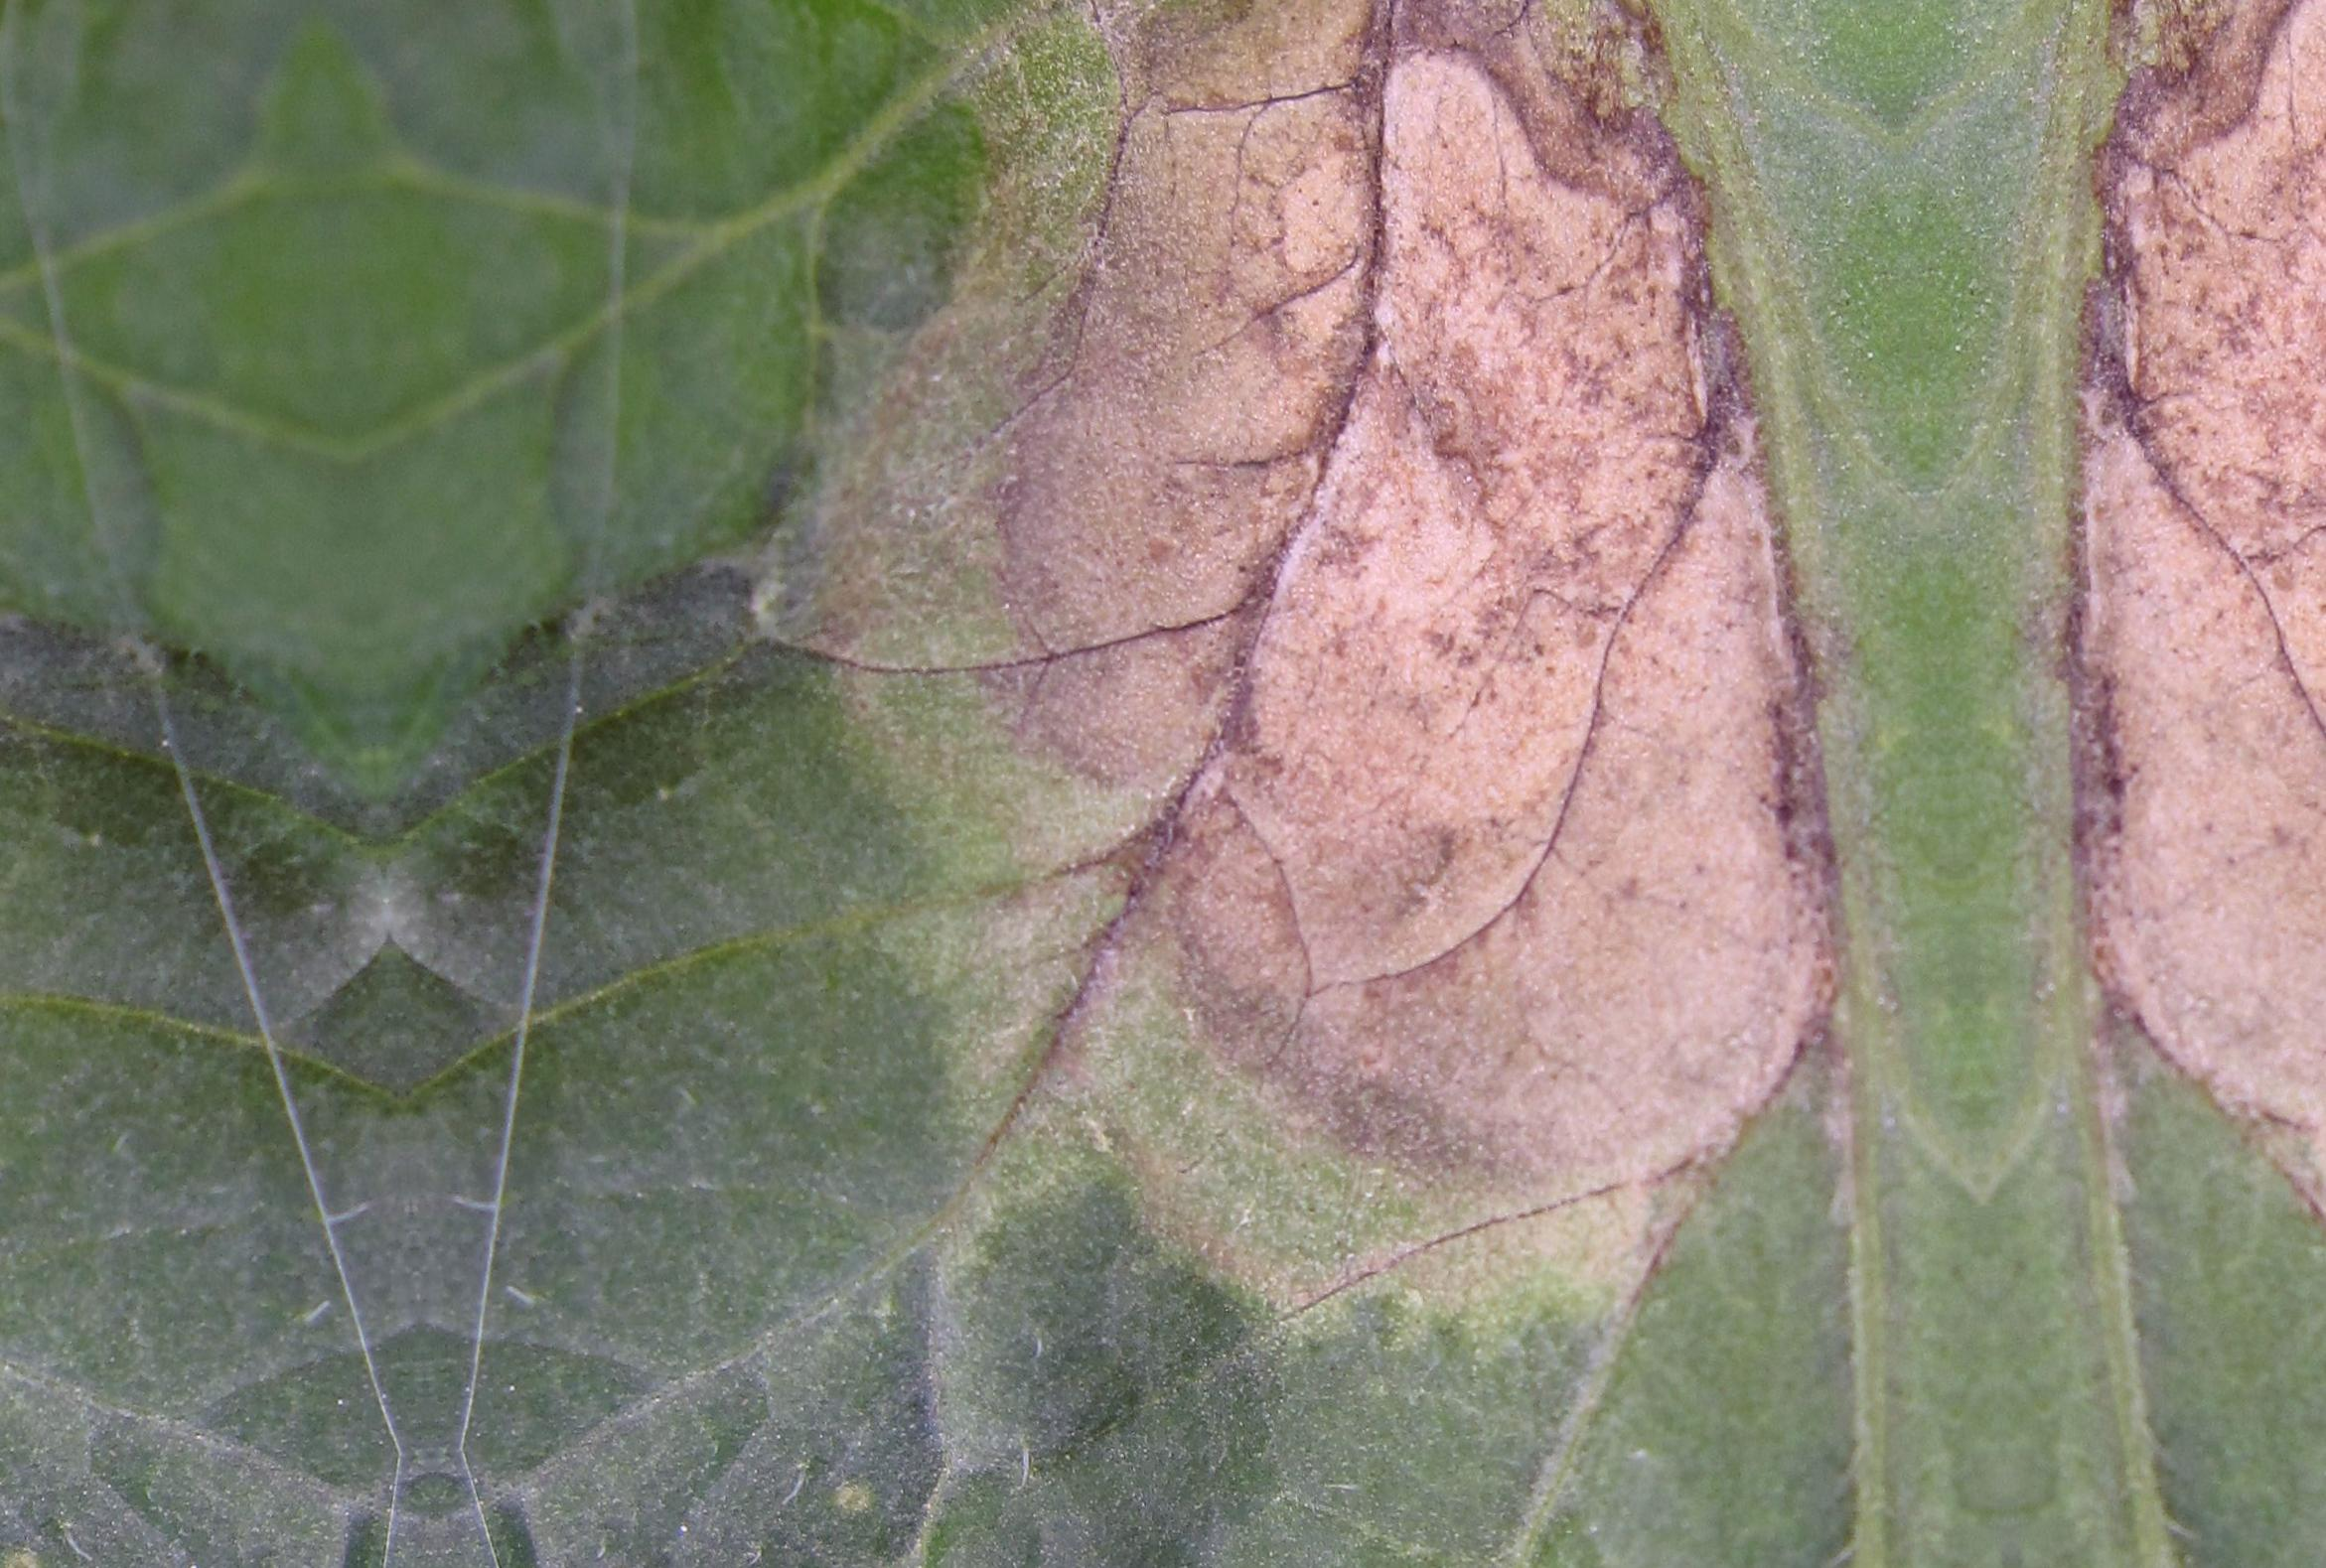Tomato leaf late blight: (288, 0, 2038, 1568)
